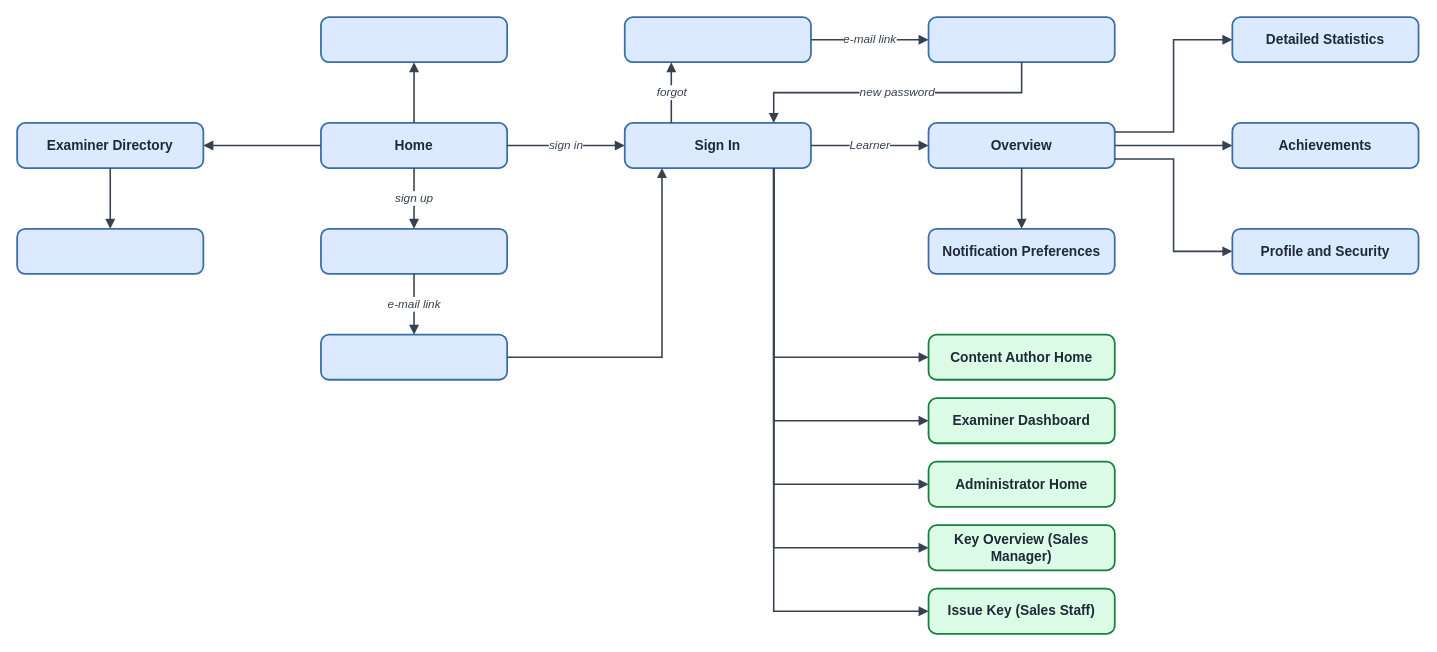
Some shapes in this 1437 by 652 pixel diagram are drawn without their labels. The centre of each missing label's shape, as x and y in pixels:
"Examiner Detail" belongs at (110,250).
"Forgot Password" belongs at (717,39).
"Register" belongs at (414,250).
"Reset Password" belongs at (1021,39).
"Verify E-mail" belongs at (414,356).
"Vocabulary" belongs at (414,39).
